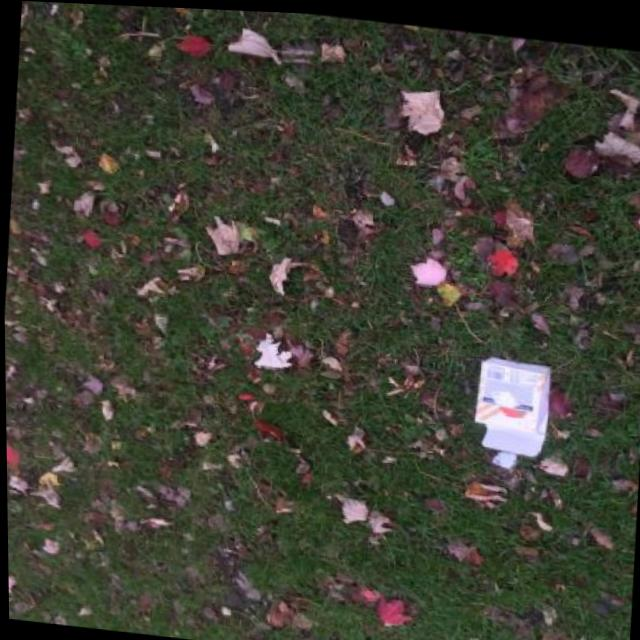cardboard: (470, 352, 555, 457)
